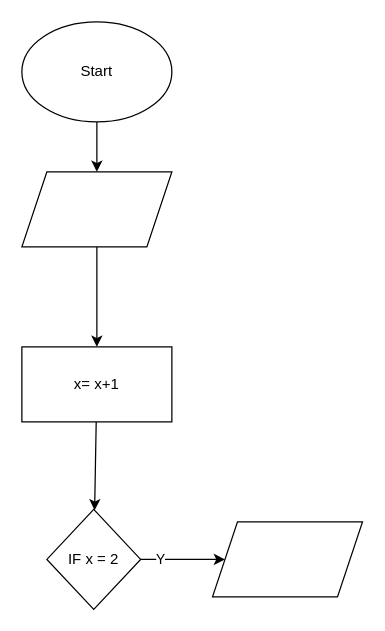
The diagram is 385 pixels wide and 631 high, and some of its shapes have lost their labels. Here are the shapes that lost their labels. From the top down, the centre of each, then its label:
At [96,209]: "Input as x".
At [286,559]: "Print You Gay".
